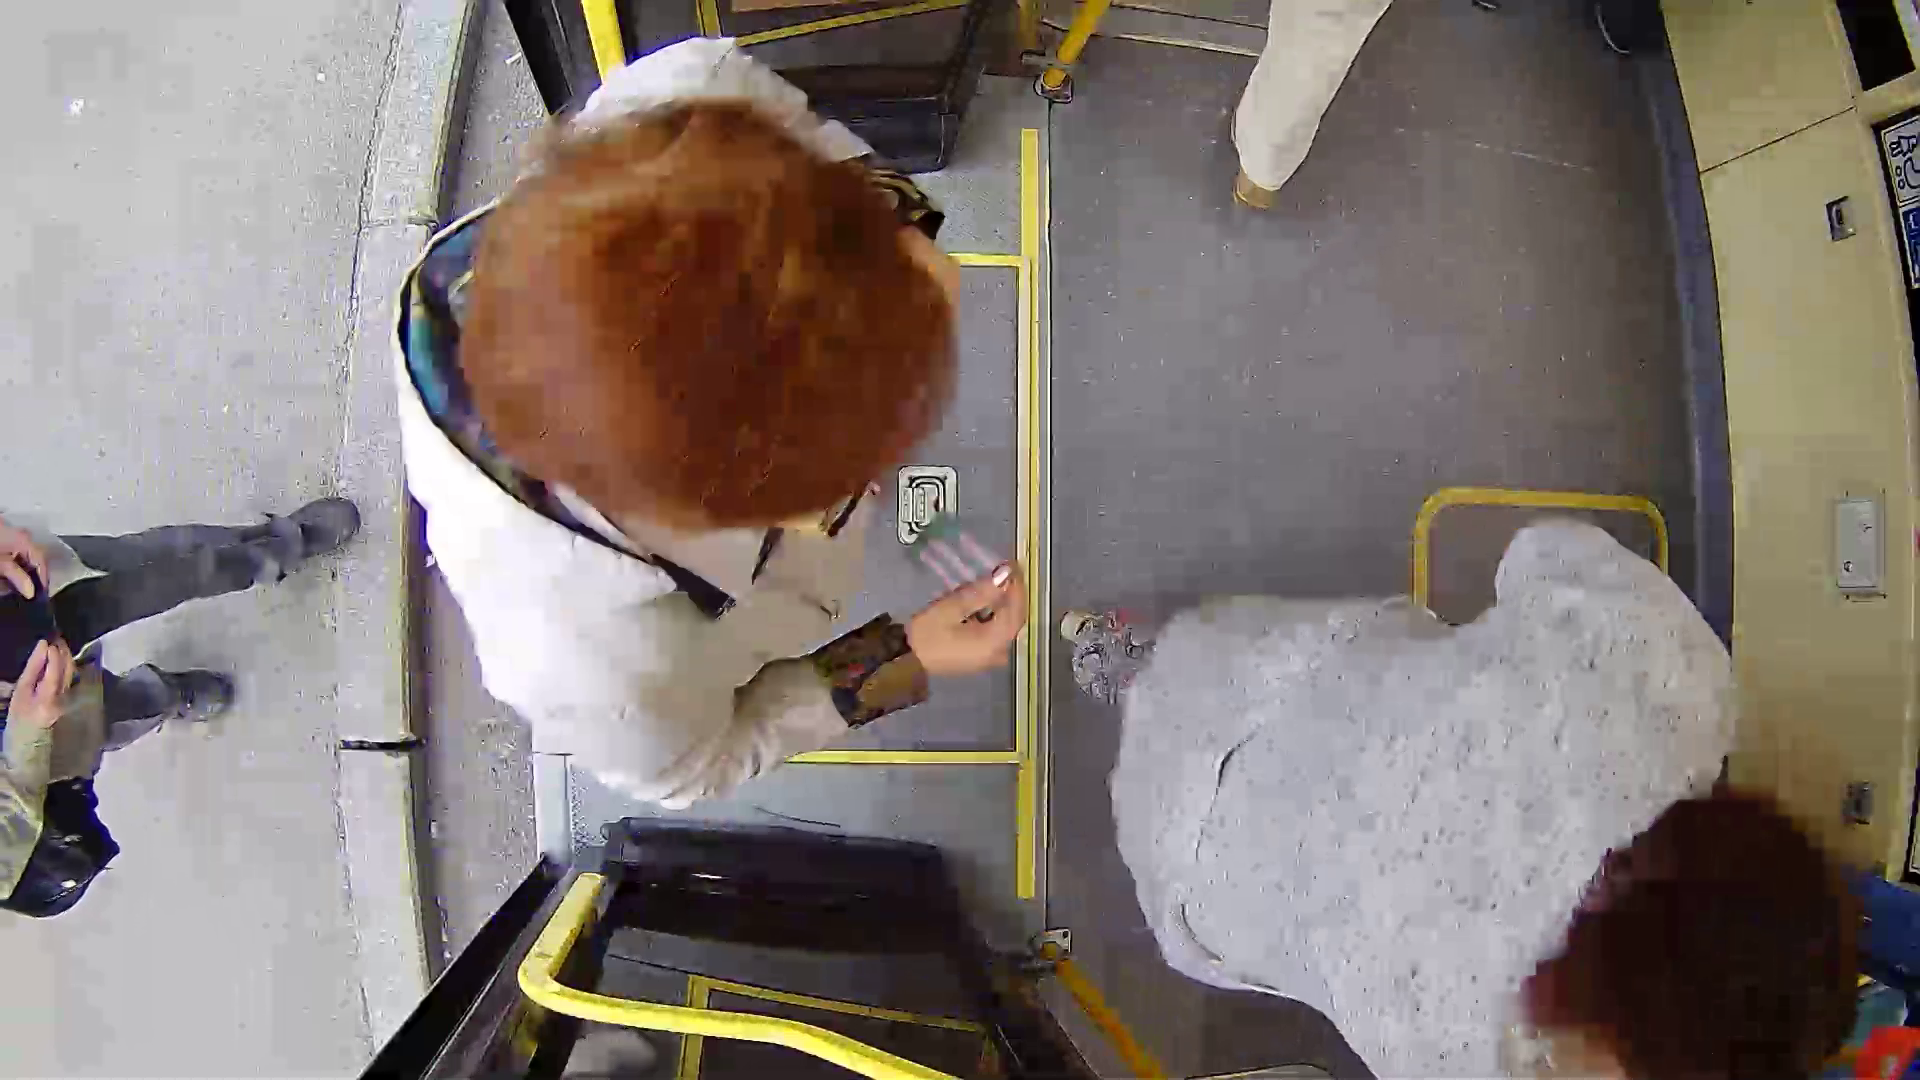person: (332, 53, 1096, 832), (1146, 497, 1842, 1080)
